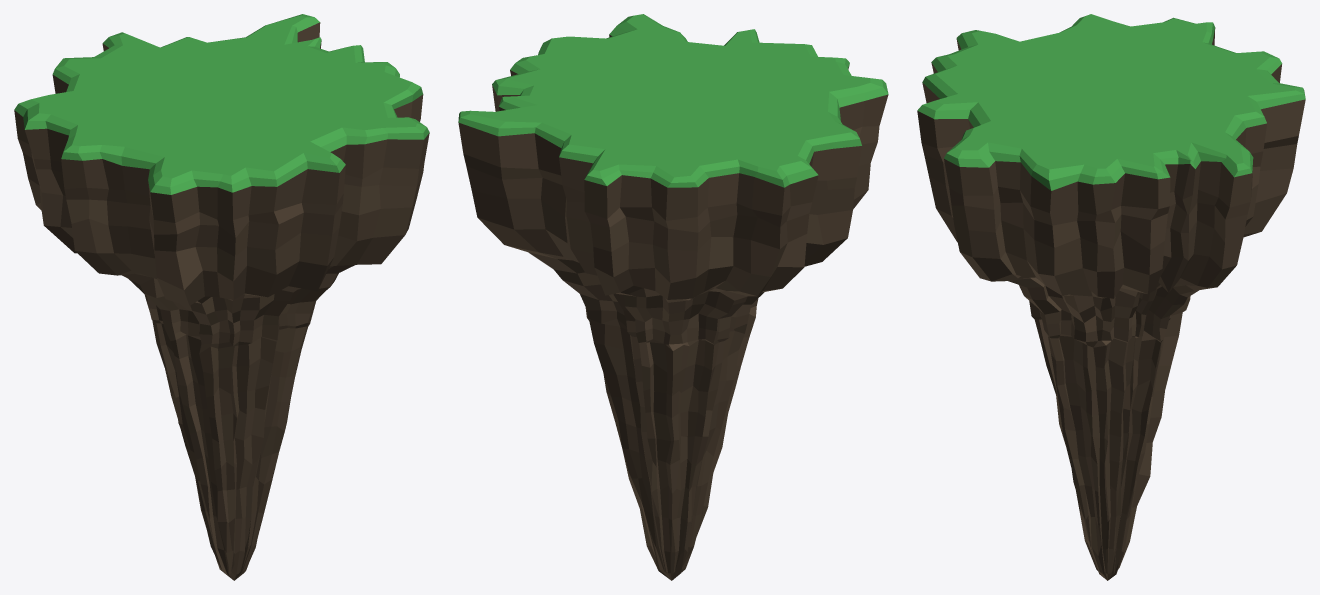
Rendered from Cliff4.fbx.
3 renders of one model, left to right at view 1: azimuth 30°, elevation 25°; view 2: azimuth 150°, elevation 25°; view 3: azimuth 270°, elevation 25°, orthographic.
Visible parts, largest first — view 1: Cliff_Main.001; view 2: Cliff_Main.001; view 3: Cliff_Main.001.
Boxes of the visible parts, x1,y1,x2,y2 form: Cliff_Main.001: [14, 14, 429, 580]; Cliff_Main.001: [458, 14, 888, 580]; Cliff_Main.001: [917, 14, 1305, 580].
Bounding box in the file's own units: 1002 × 1354 × 984.
